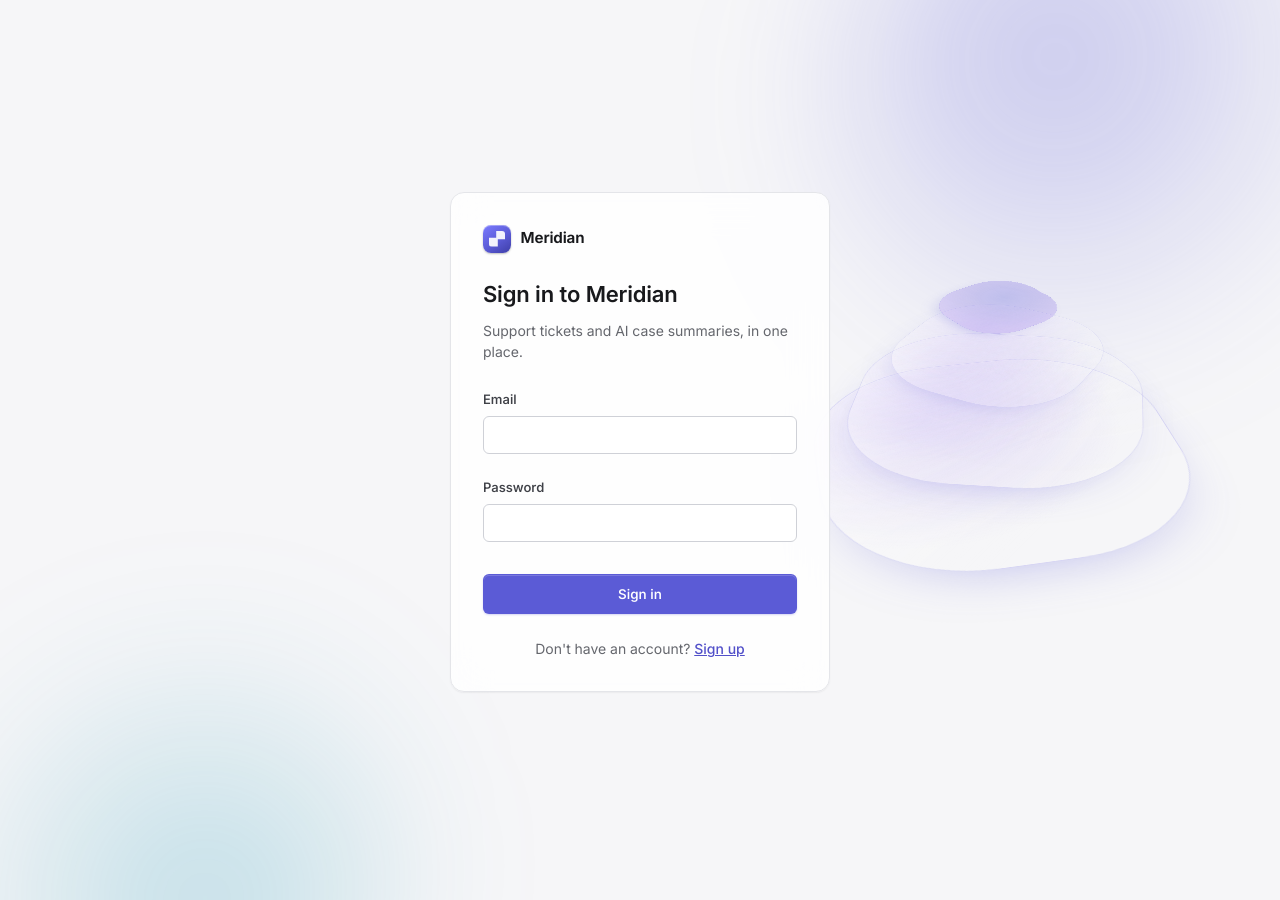
Test: LoginPage › returns the user to the protected page they originally asked for
Type "asha.kapoor@meridian.local" into the field labelled "Email" at (640, 435), box [483,416,797,454]
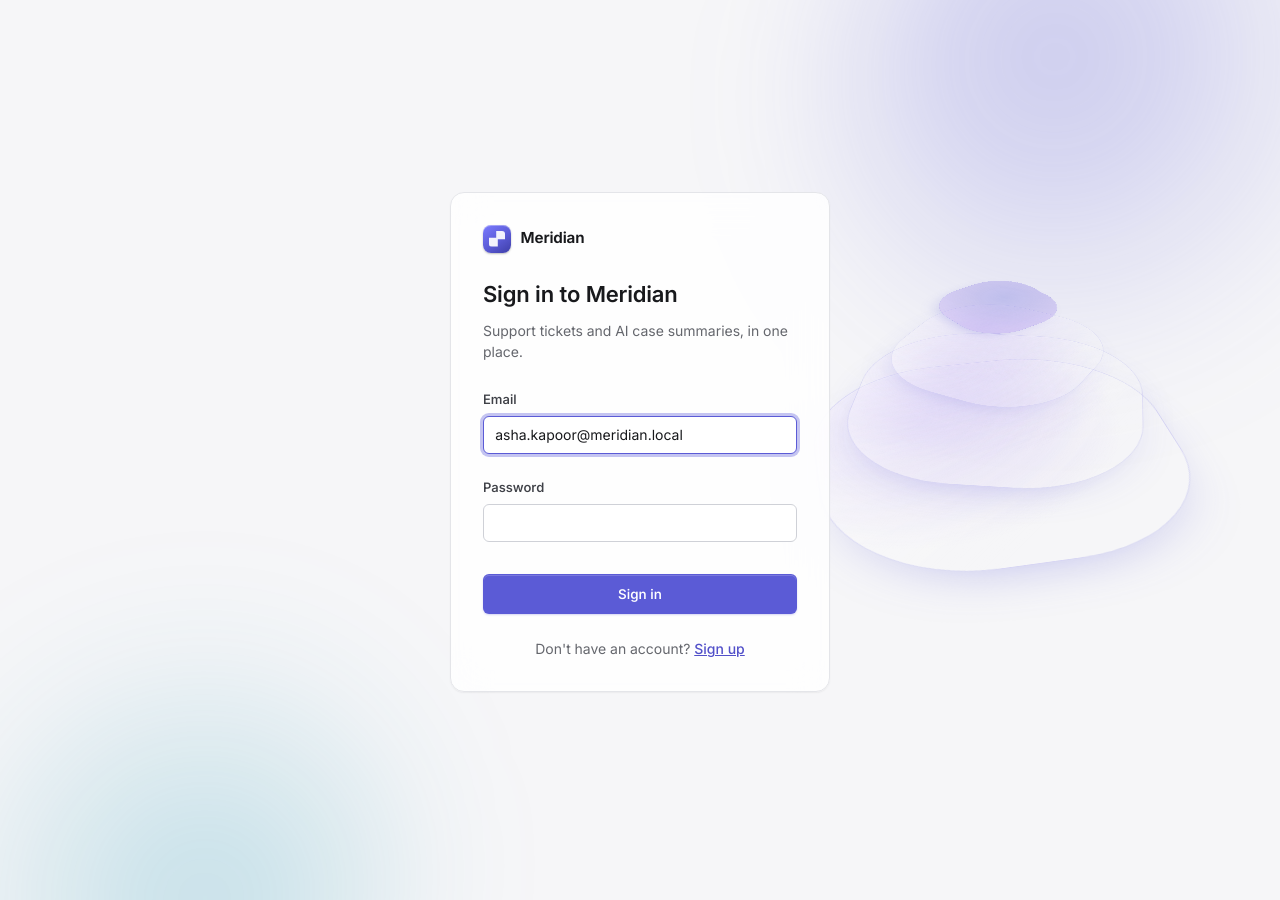
Type "AgentDemo!123" into the password field labelled "Password" at (640, 523), box [483,504,797,542]
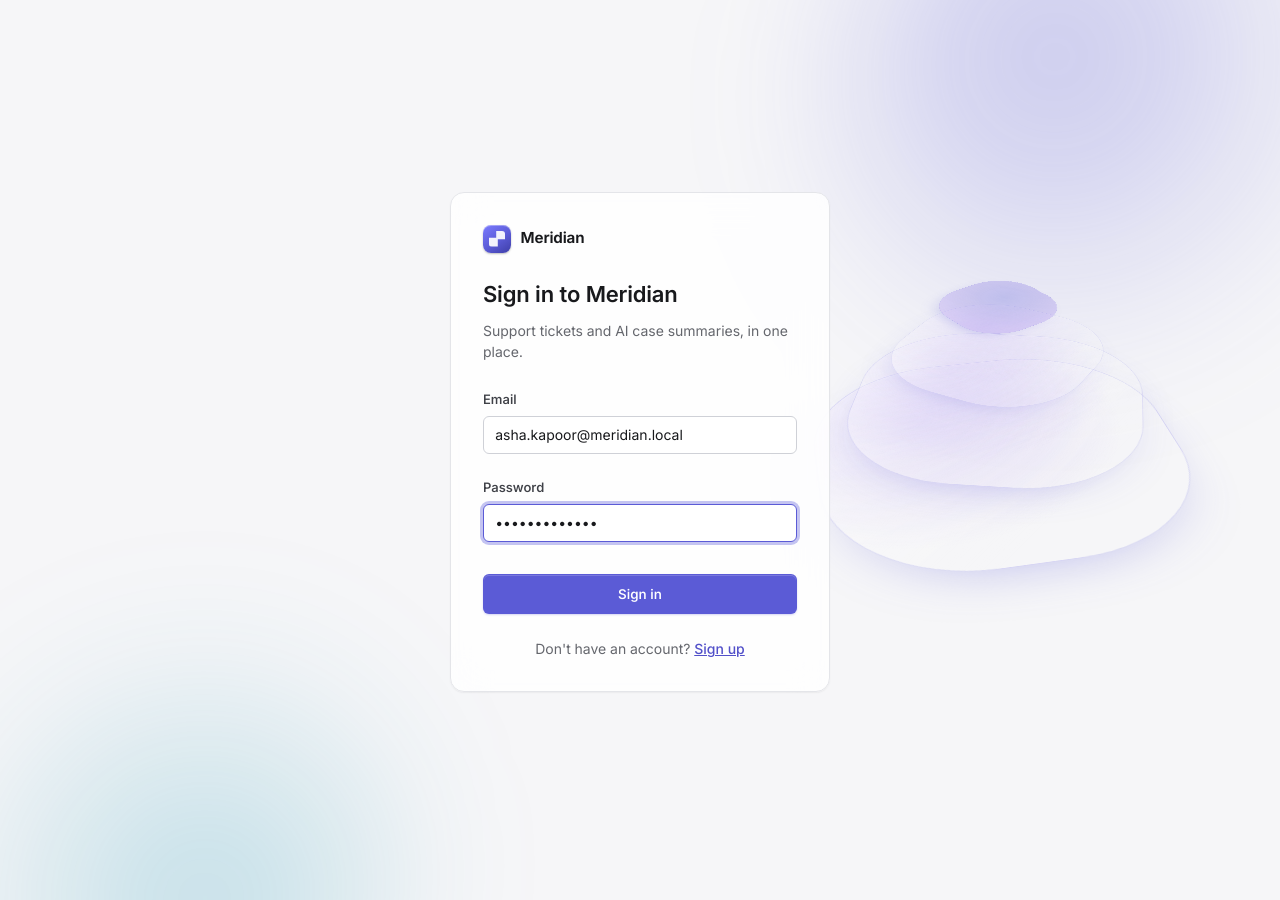
Click the button "Sign in" at (640, 594), box [483,574,797,614]
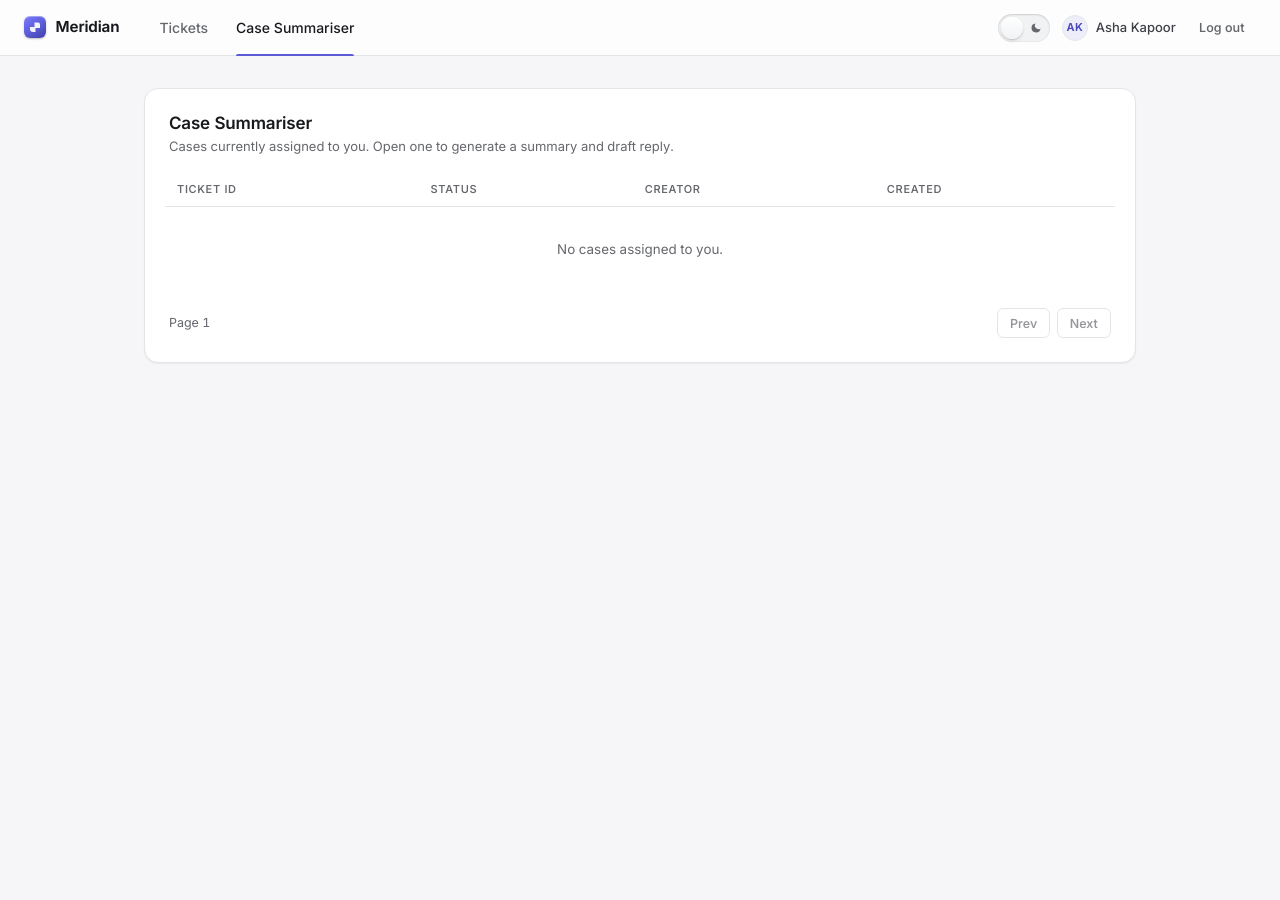
Expected: the heading "Case Summariser" is shown, [169,113,312,133]
